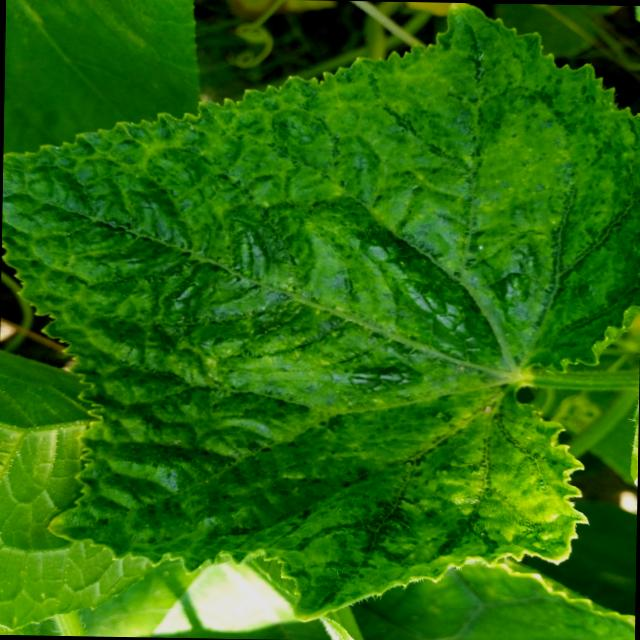cucumber_healthy: (0, 0, 640, 632), (0, 353, 131, 636)
